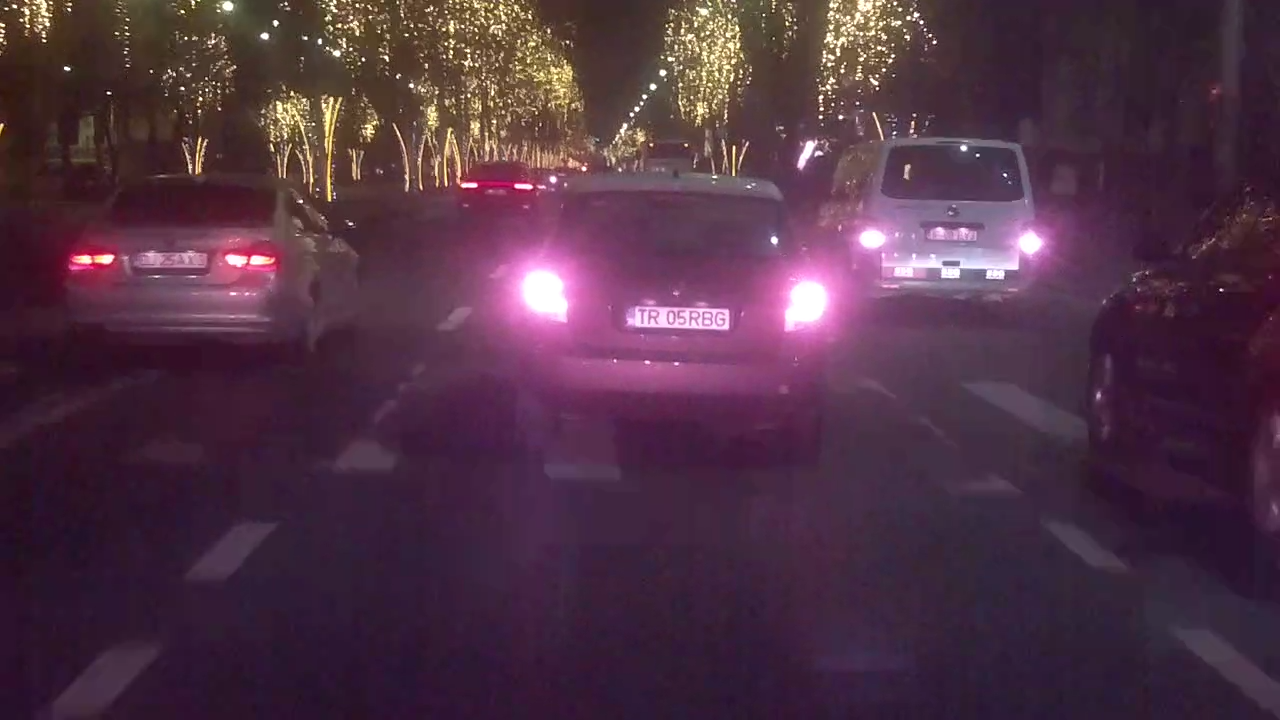license-plate: (621, 300, 736, 334)
